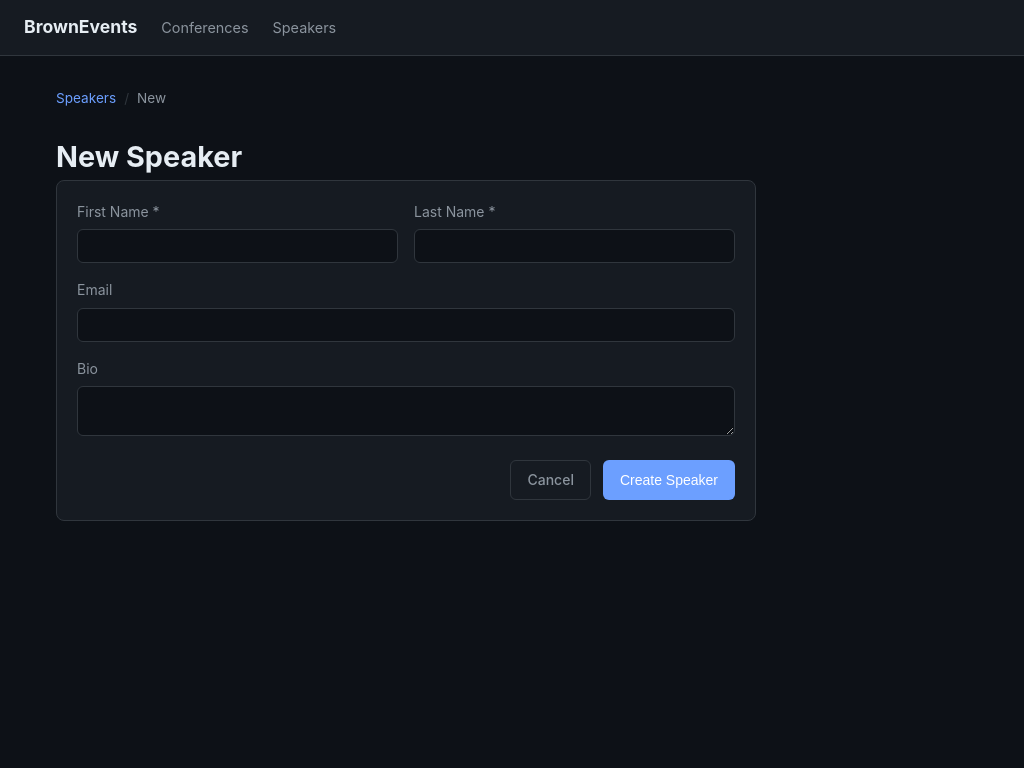
Scenario: blocks submission and shows an error when first name is missing
Click the button "Create Speaker" at coordinates (669, 480), box [603,460,735,500]
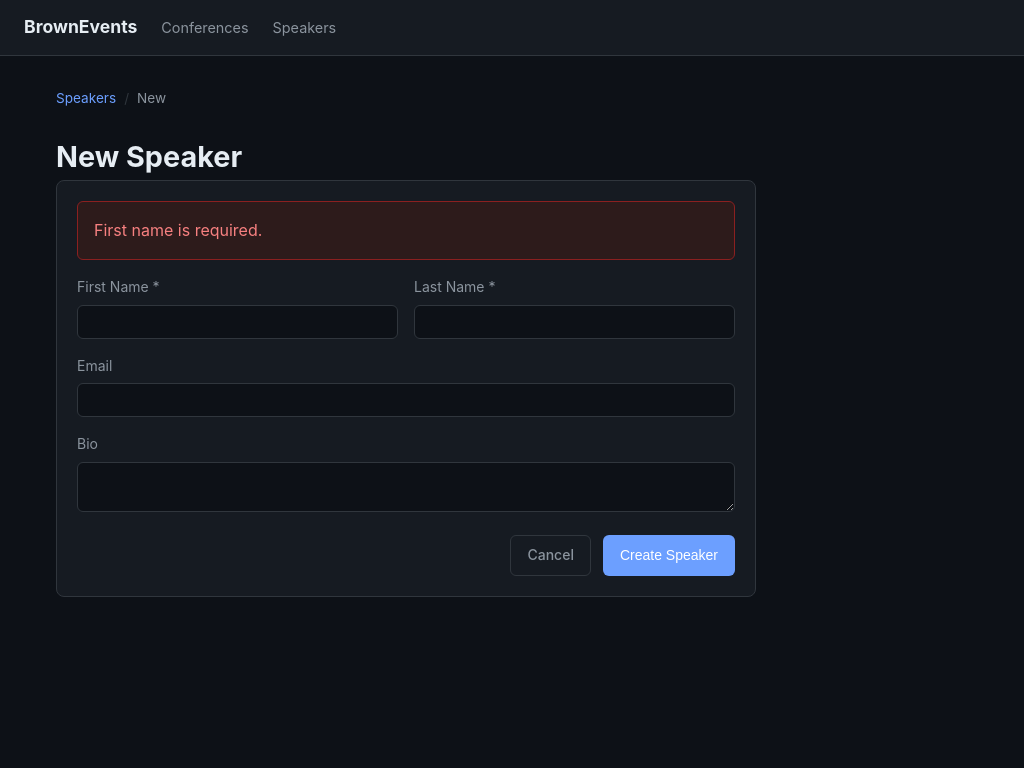
Result: the text "First name is required." is shown at [94,220,262,240]
